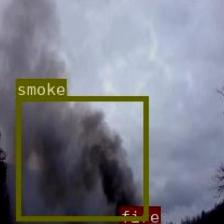smoke: (15, 96, 148, 220)
